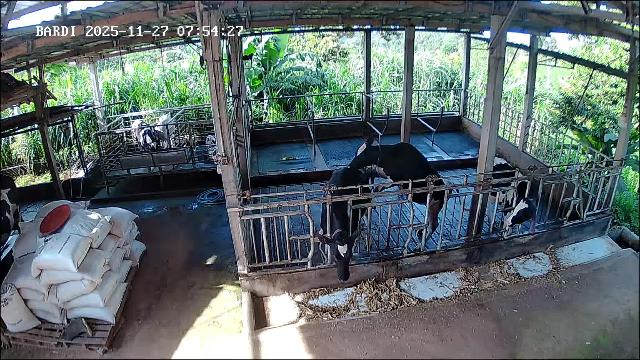mounting: (346, 138, 449, 236)
